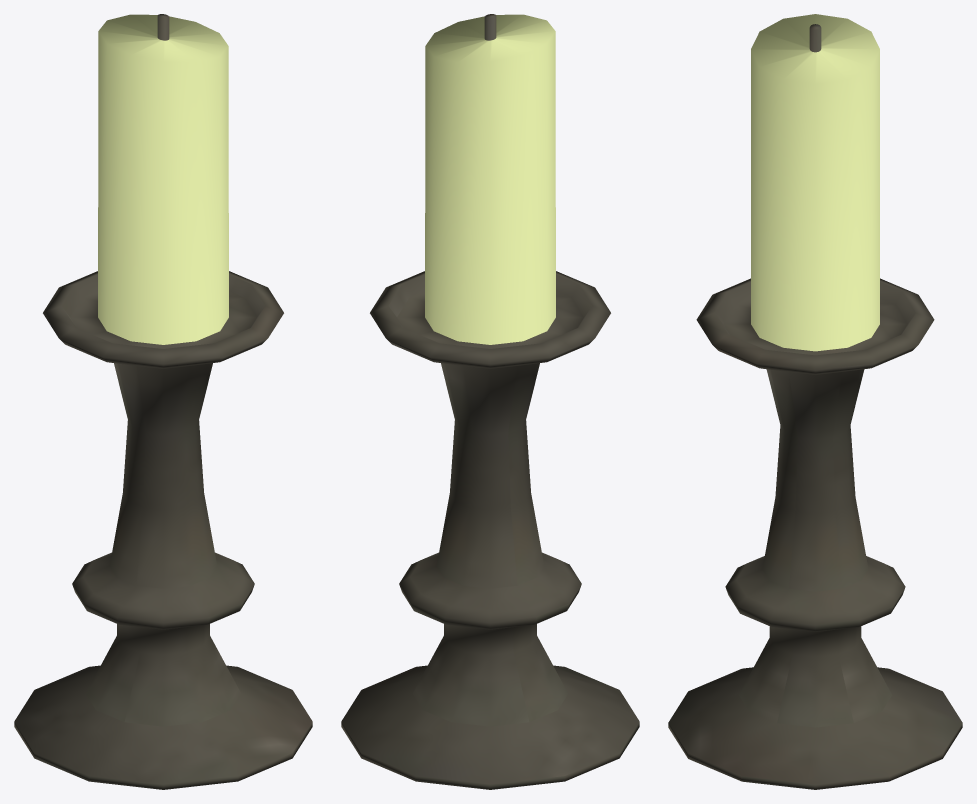
File: candle.glb
3 renders of one model, left to right at view 1: azimuth 30°, elevation 25°; view 2: azimuth 150°, elevation 25°; view 3: azimuth 270°, elevation 25°, orthographic.
Parts seen in each view (by area): view 1: candle; view 2: candle; view 3: candle.
Boxes of the visible parts, x1,y1,x2,y2 form: candle: (14,14,312,789); candle: (341,14,639,789); candle: (668,14,962,789).
Bounding box in the file's own units: 0.0949 × 0.2498 × 0.0949.
2 materials, 1 textured.
